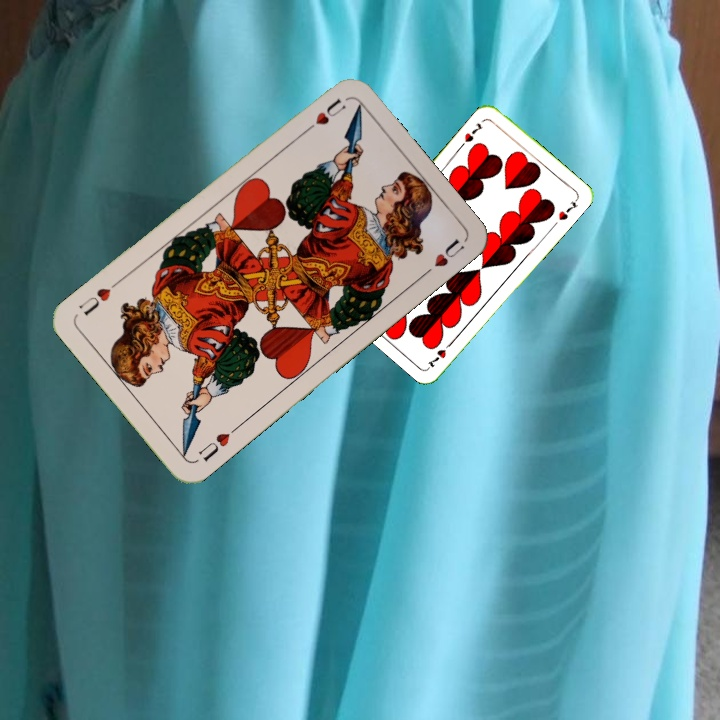H7: (423, 337, 456, 371), (460, 119, 485, 145)
HU: (298, 94, 349, 137), (194, 422, 241, 464)
